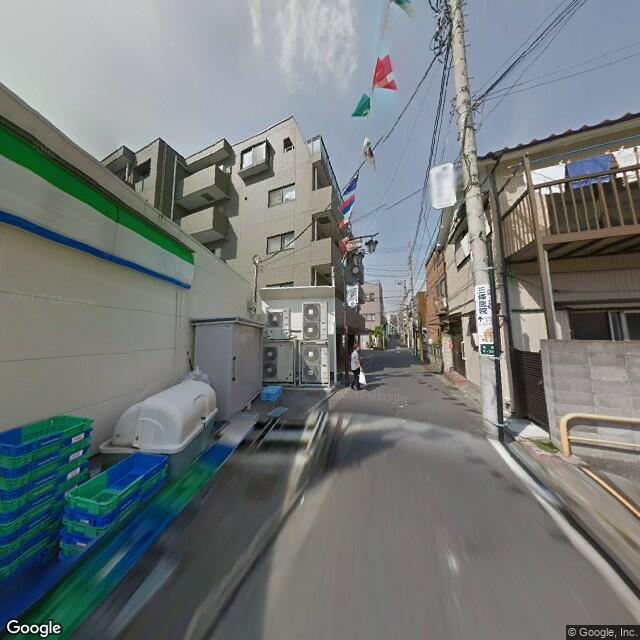family_mart: (1, 123, 195, 290)
